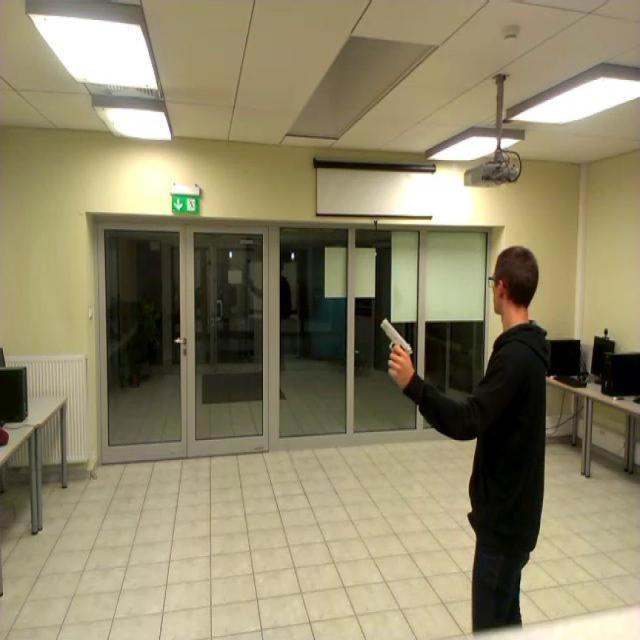pistol: (382, 317, 414, 374)
